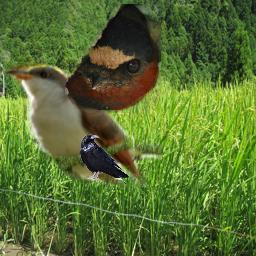Crow: (80, 134, 129, 184)
Cuckoo: (0, 53, 162, 186)
Swallow: (65, 4, 161, 113)
